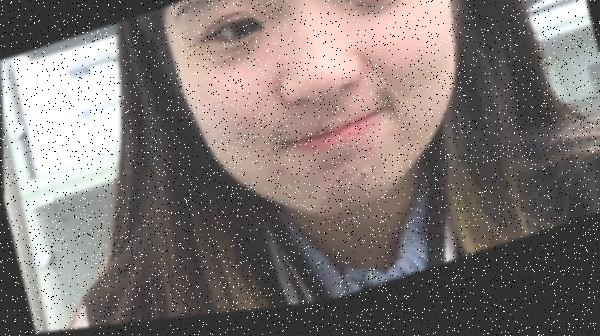eye: (230, 23, 252, 44), (353, 0, 376, 7)
iris: (213, 20, 256, 49), (345, 0, 401, 11)
